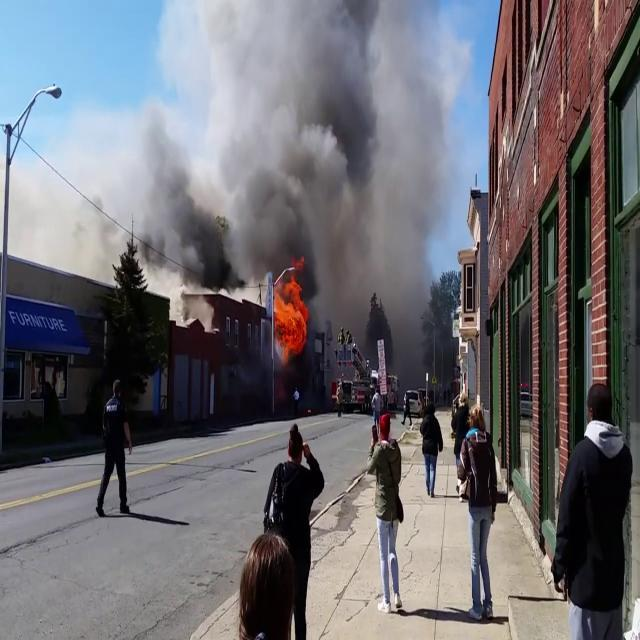Fire: (272, 268, 310, 354)
Smoke: (220, 0, 450, 312)
